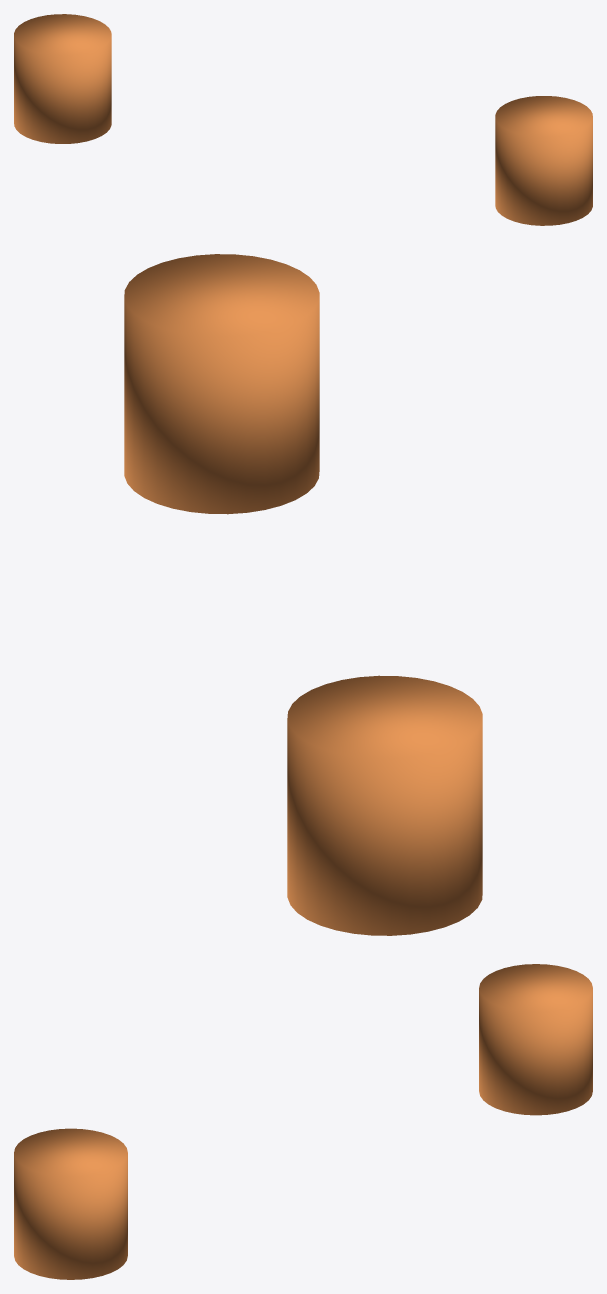
The picture shows the model from 3 angles, top to bottom: view 1: azimuth 30°, elevation 25°; view 2: azimuth 150°, elevation 25°; view 3: azimuth 270°, elevation 25°; orthographic projection. The views are drawn at different scales.
Parts seen in each view (by area): view 1: block2, black1; view 2: block2, black1; view 3: block2, black1.
Part boxes in pixels (box(x1,y1,x2,y2)): block2: box(495, 96, 592, 225); black1: box(14, 14, 111, 143); block2: box(124, 254, 319, 514); black1: box(287, 675, 482, 935); block2: box(14, 1128, 127, 1279); black1: box(479, 964, 592, 1115).
Size of what is drawn, in the model's own units: 1.95 by 0.4723 by 2.29.
